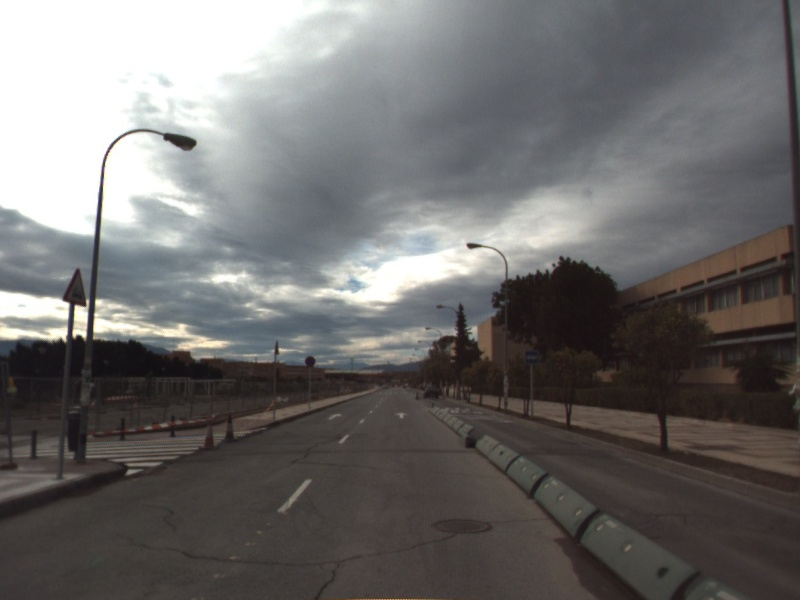STRAIGHT: (326, 411, 345, 421), (392, 410, 410, 420)
